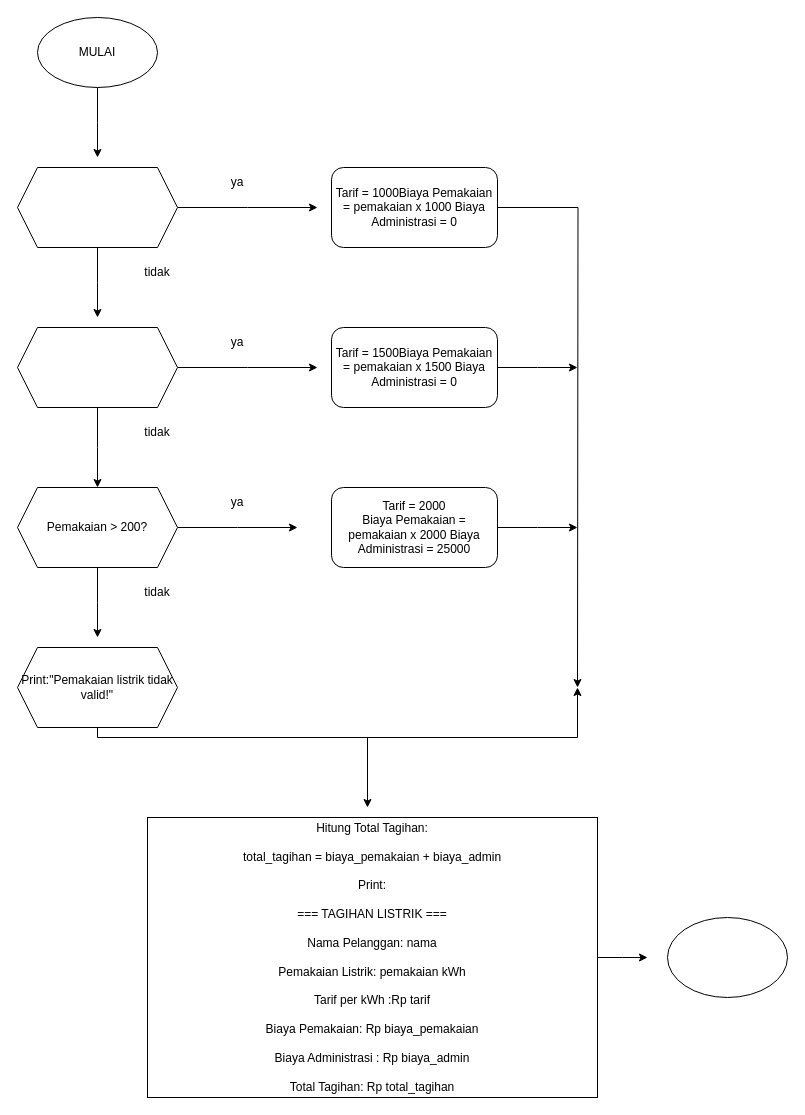
Image size: 805x1115. Some labels were removed from this diagram. Here are the shapes that lost their labels. From the top down, the centre of each, then its label:
At point (97, 207): "Input nama pelanggan dan jumlah pemakaian listrik (kWh)Pemakaian ≥ 1 dan ≤ 100?".
At point (97, 367): "Pemakaian ≥ 101 dan ≤ 20".
At point (727, 957): "selesai".
